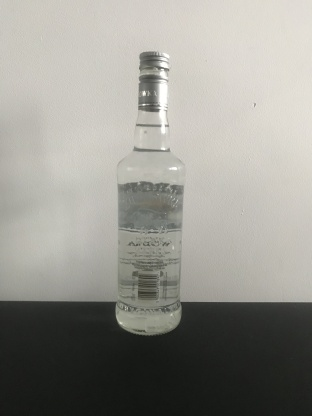nakretka: (136, 49, 170, 111)
